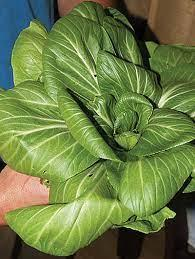Healthy-Pechay: (11, 14, 195, 247)
